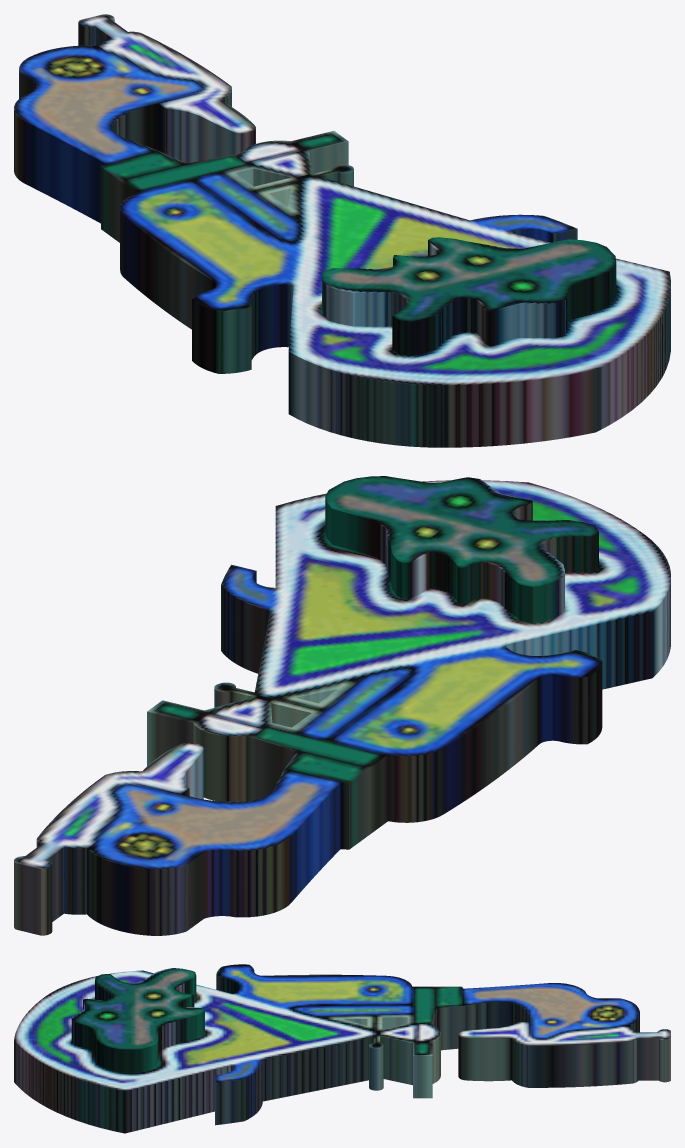
The model's file is muro del sol 3.dae.
3 views of the same model, one above another, from view 1: azimuth 30°, elevation 25°; view 2: azimuth 150°, elevation 25°; view 3: azimuth 270°, elevation 25° (orthographic). The views are drawn at different scales.
Parts seen in each view (by area): view 1: SketchUp (×2); view 2: SketchUp (×2); view 3: SketchUp (×2).
Boxes of the visible parts, x1=… form: SketchUp (×2): x1=14, y1=14, x2=670, y2=447; SketchUp (×2): x1=14, y1=476, x2=670, y2=935; SketchUp (×2): x1=14, y1=964, x2=670, y2=1133.
Size of the model in its own units: 20.21 by 44.17 by 4.81.
